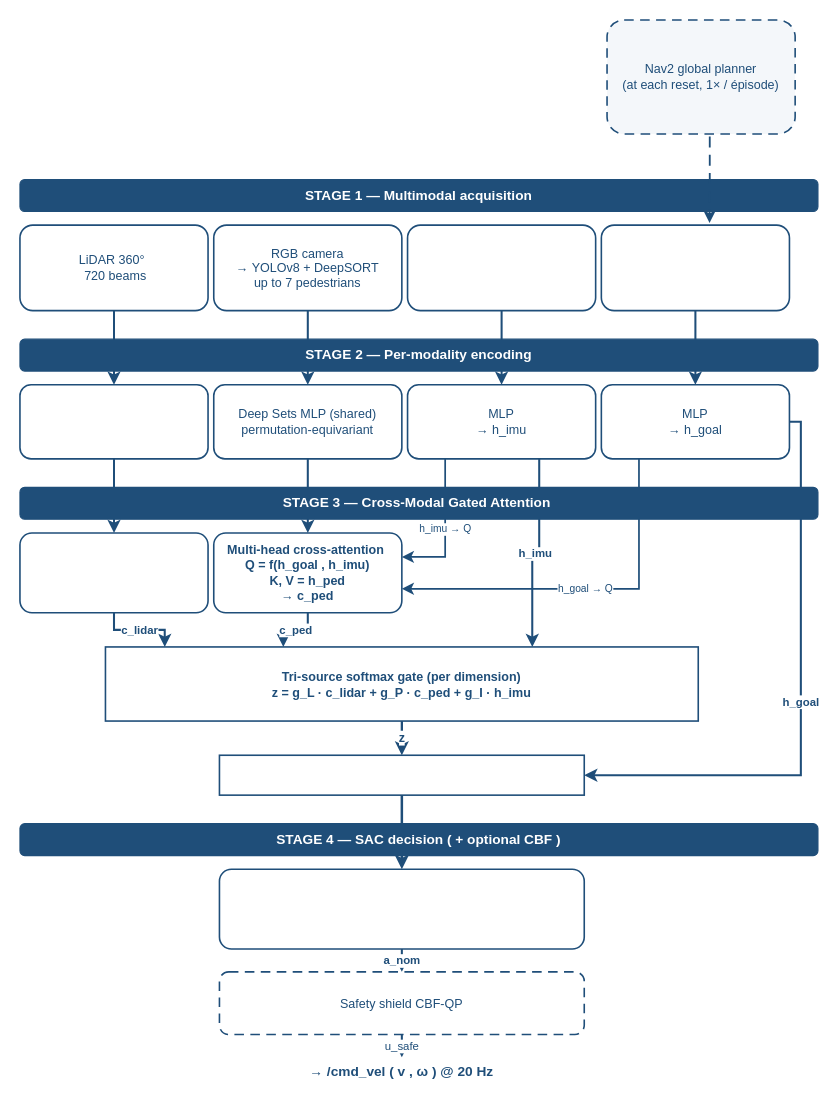
This 839x1106 diagram has some shape labels left out. Here are the shapes that lost their labels. From the top down, the box of each, then its label:
(406, 224, 596, 311): IMU accel. + gyro
(600, 224, 790, 311): Goal distance, angle, v, ω
(19, 383, 208, 459): Conv1D circular padding
(19, 532, 208, 613): Multi-head self attention over LiDAR patches → c_lidar
(218, 754, 584, 795): ξ = [ z ; h_goal ]
(218, 868, 584, 949): SAC actor π( a | ξ ) tanh-Gaussian policy → a_nom = ( v , ω )
